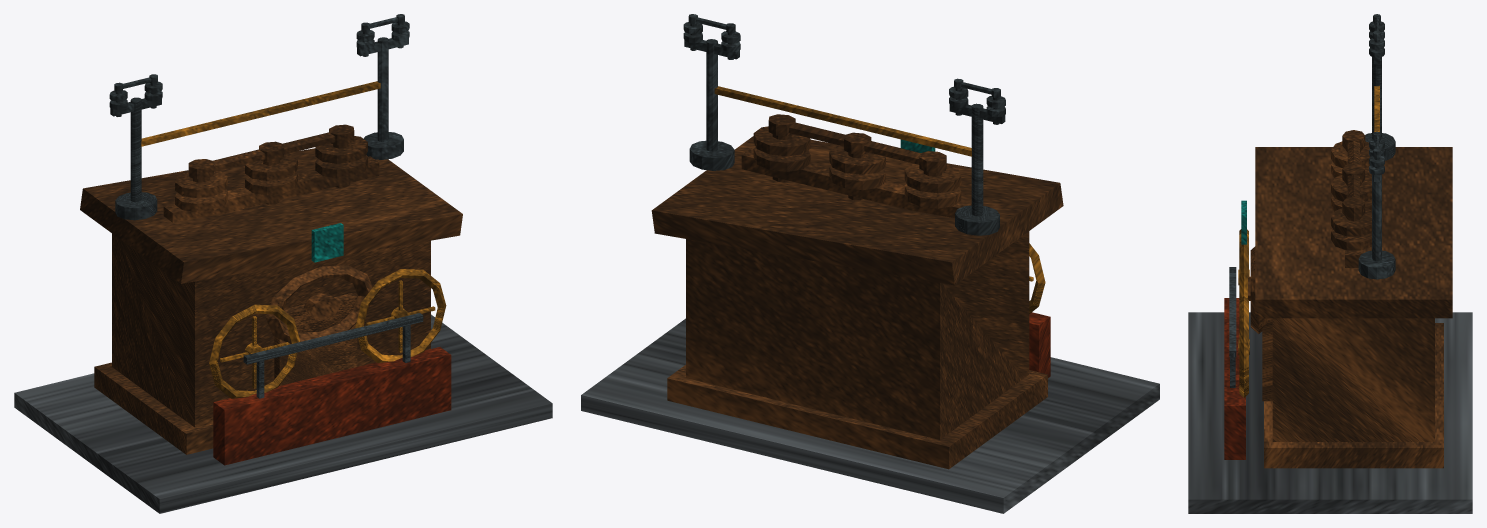
File: sub-hall-dynamo-house.glb
3 views of the same model, side by side, from view 1: azimuth 30°, elevation 25°; view 2: azimuth 150°, elevation 25°; view 3: azimuth 270°, elevation 25° (orthographic). The views are drawn at different scales.
Visible parts, largest first — view 1: sub-hall-dynamo-house; view 2: sub-hall-dynamo-house; view 3: sub-hall-dynamo-house.
Boxes of the visible parts, box(x1,y1,x2,y2) form: sub-hall-dynamo-house: box(14, 14, 552, 513); sub-hall-dynamo-house: box(581, 14, 1159, 513); sub-hall-dynamo-house: box(1188, 14, 1472, 513).
Bounding box in the file's own units: 7.8 × 6.55 × 5.
Materials: 1 (1 with a texture image).
